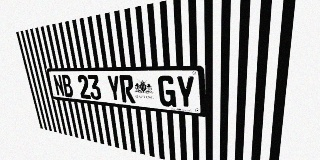2: (77, 75, 91, 99)
3: (87, 75, 102, 100)
B: (61, 75, 74, 97)
G: (157, 75, 176, 107)
N: (52, 75, 65, 97)
R: (119, 75, 135, 103)
Y: (175, 76, 195, 109), (106, 75, 122, 102)
